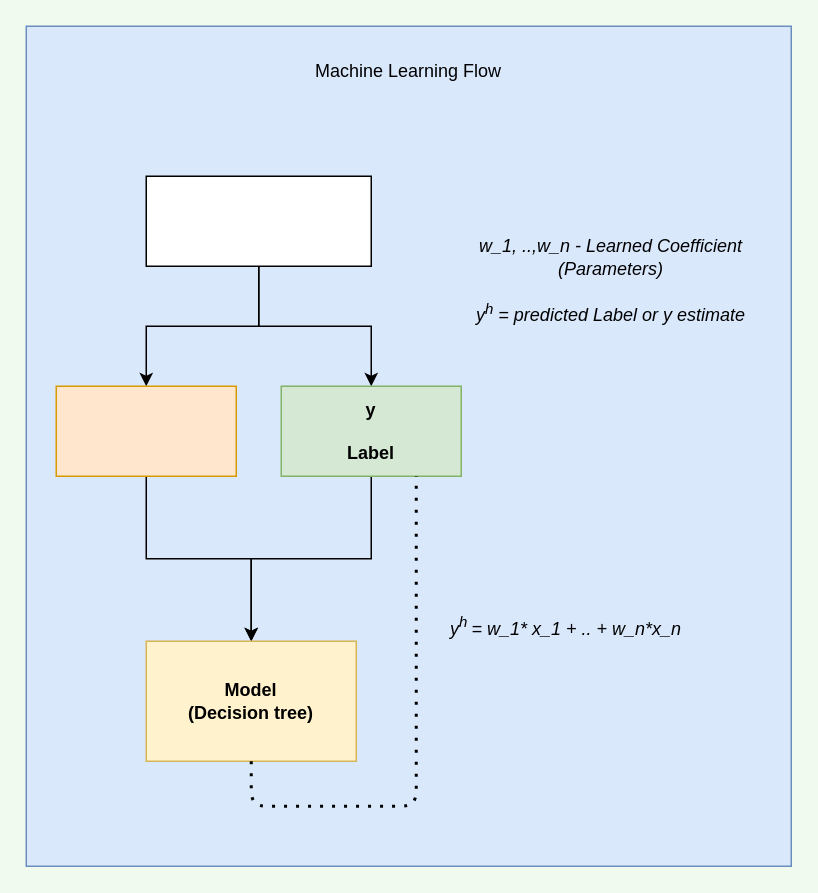
Image size: 818x893. Some labels were removed from this diagram. The shapes that lost their labels are listed below. From the top down, each one's centre as x and y in pixels, then its label:
At point (258, 220): "Data {(x_1, x_2,..x_n), y}".
At point (145, 430): "x_1, x_2..x_n Predictor".
